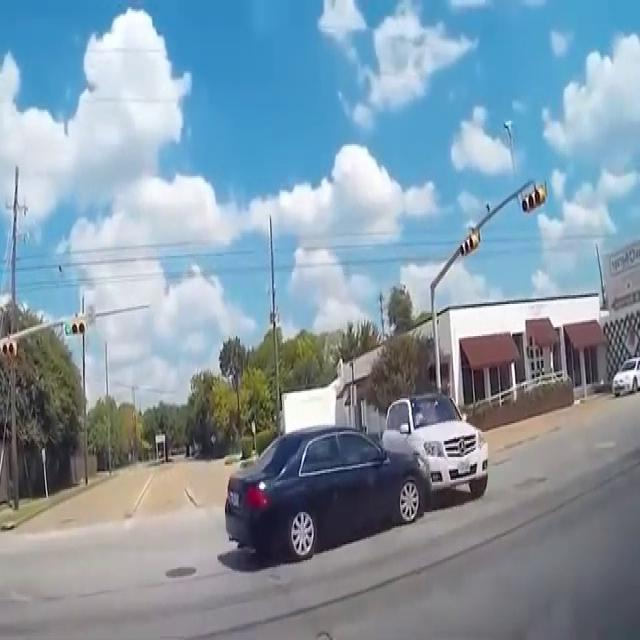multiple_accident: (353, 397, 461, 526)
